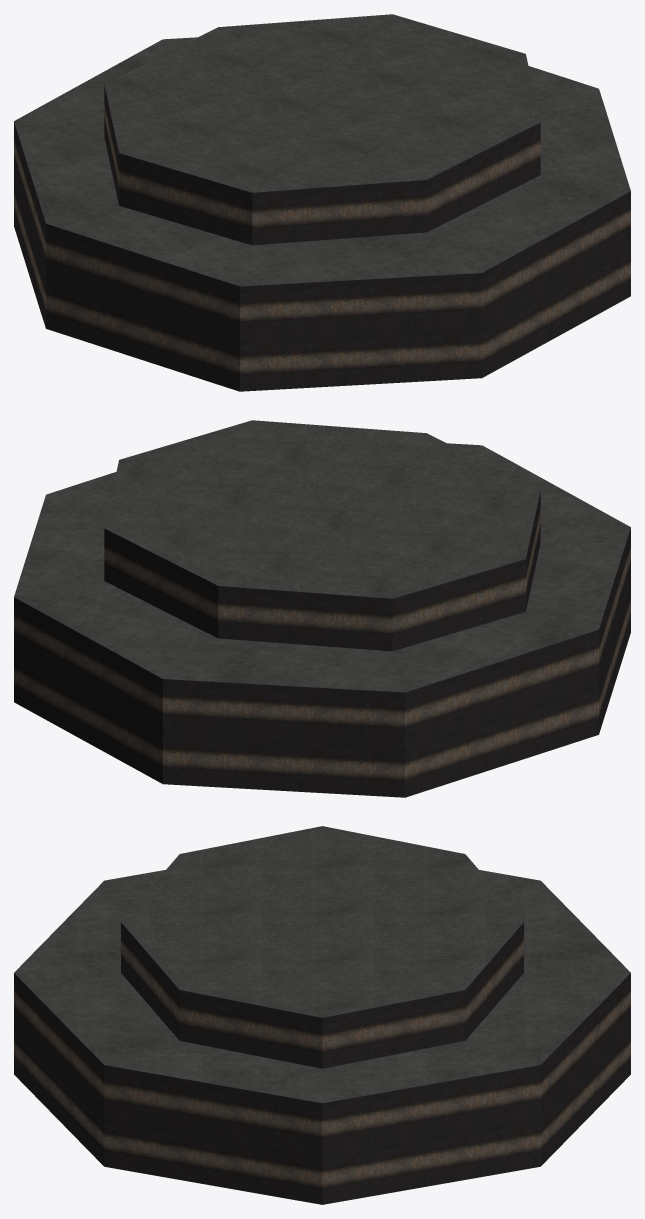
File: hover_base.fbx
The picture shows the model from 3 angles, top to bottom: view 1: azimuth 30°, elevation 25°; view 2: azimuth 150°, elevation 25°; view 3: azimuth 270°, elevation 25°; orthographic projection. The views are drawn at different scales.
Parts seen in each view (by area): view 1: Object; view 2: Object; view 3: Object.
Part boxes in pixels (x1,y1,x2,y2): Object: (14, 14, 630, 391); Object: (14, 420, 630, 797); Object: (14, 826, 630, 1204).
Size of the model in its own units: 4400 by 1200 by 4400.
